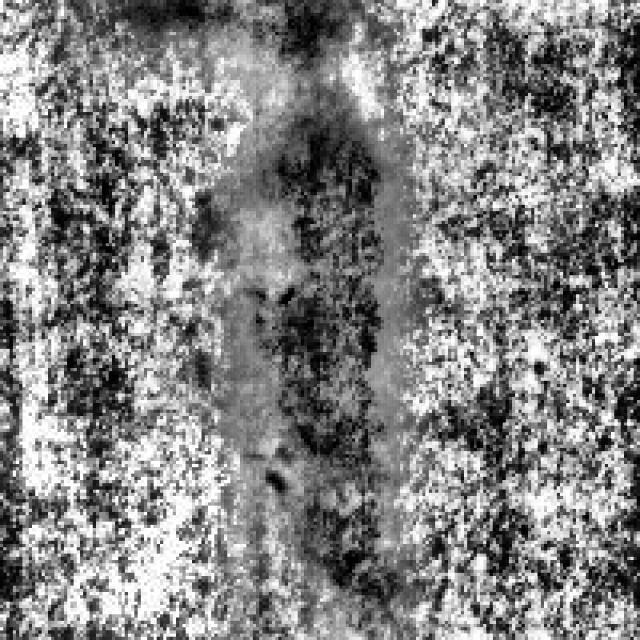Scratches: (221, 102, 390, 490), (109, 0, 352, 64)
